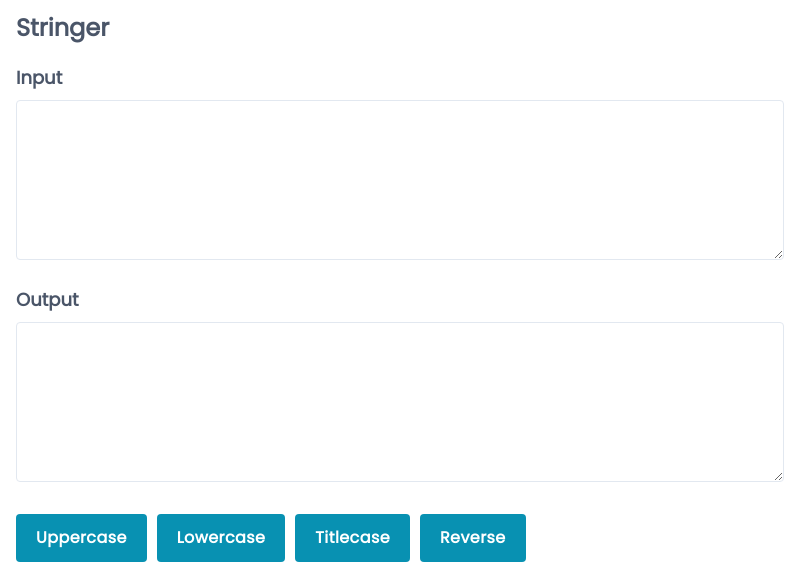
clicking "Titlecase" button should convert input text to titlecase
Type "hello, world!" into the text box labelled "Input".
click(400, 180); type("hello, world!")  # box [16,100,784,260]
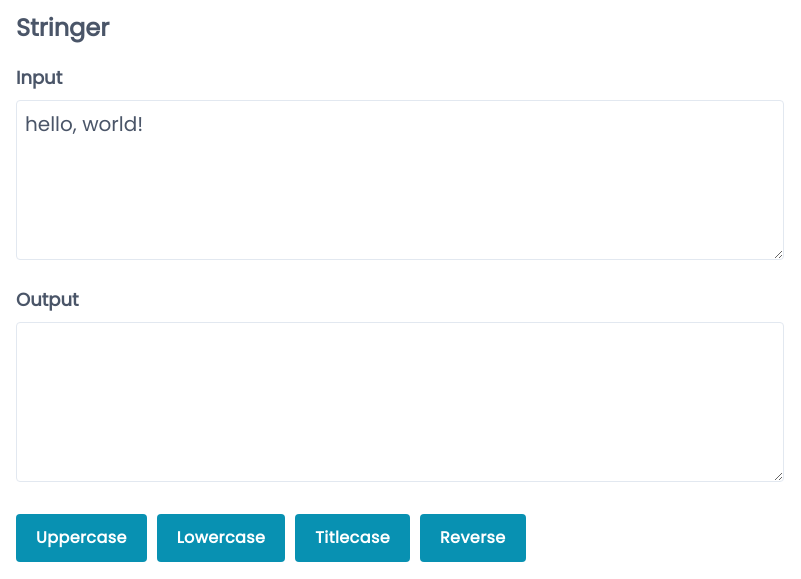
Click the button "Titlecase".
click(353, 538)  # box [295,514,410,562]
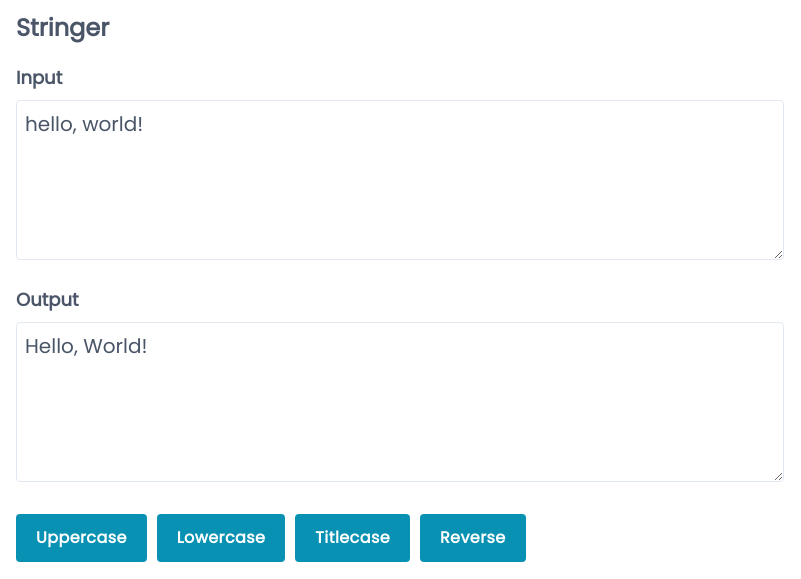
expect the text box labelled "Output" holds "Hello, World!": met, box [16,322,784,482]
